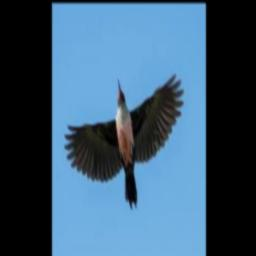Woodpecker: (64, 74, 184, 209)
